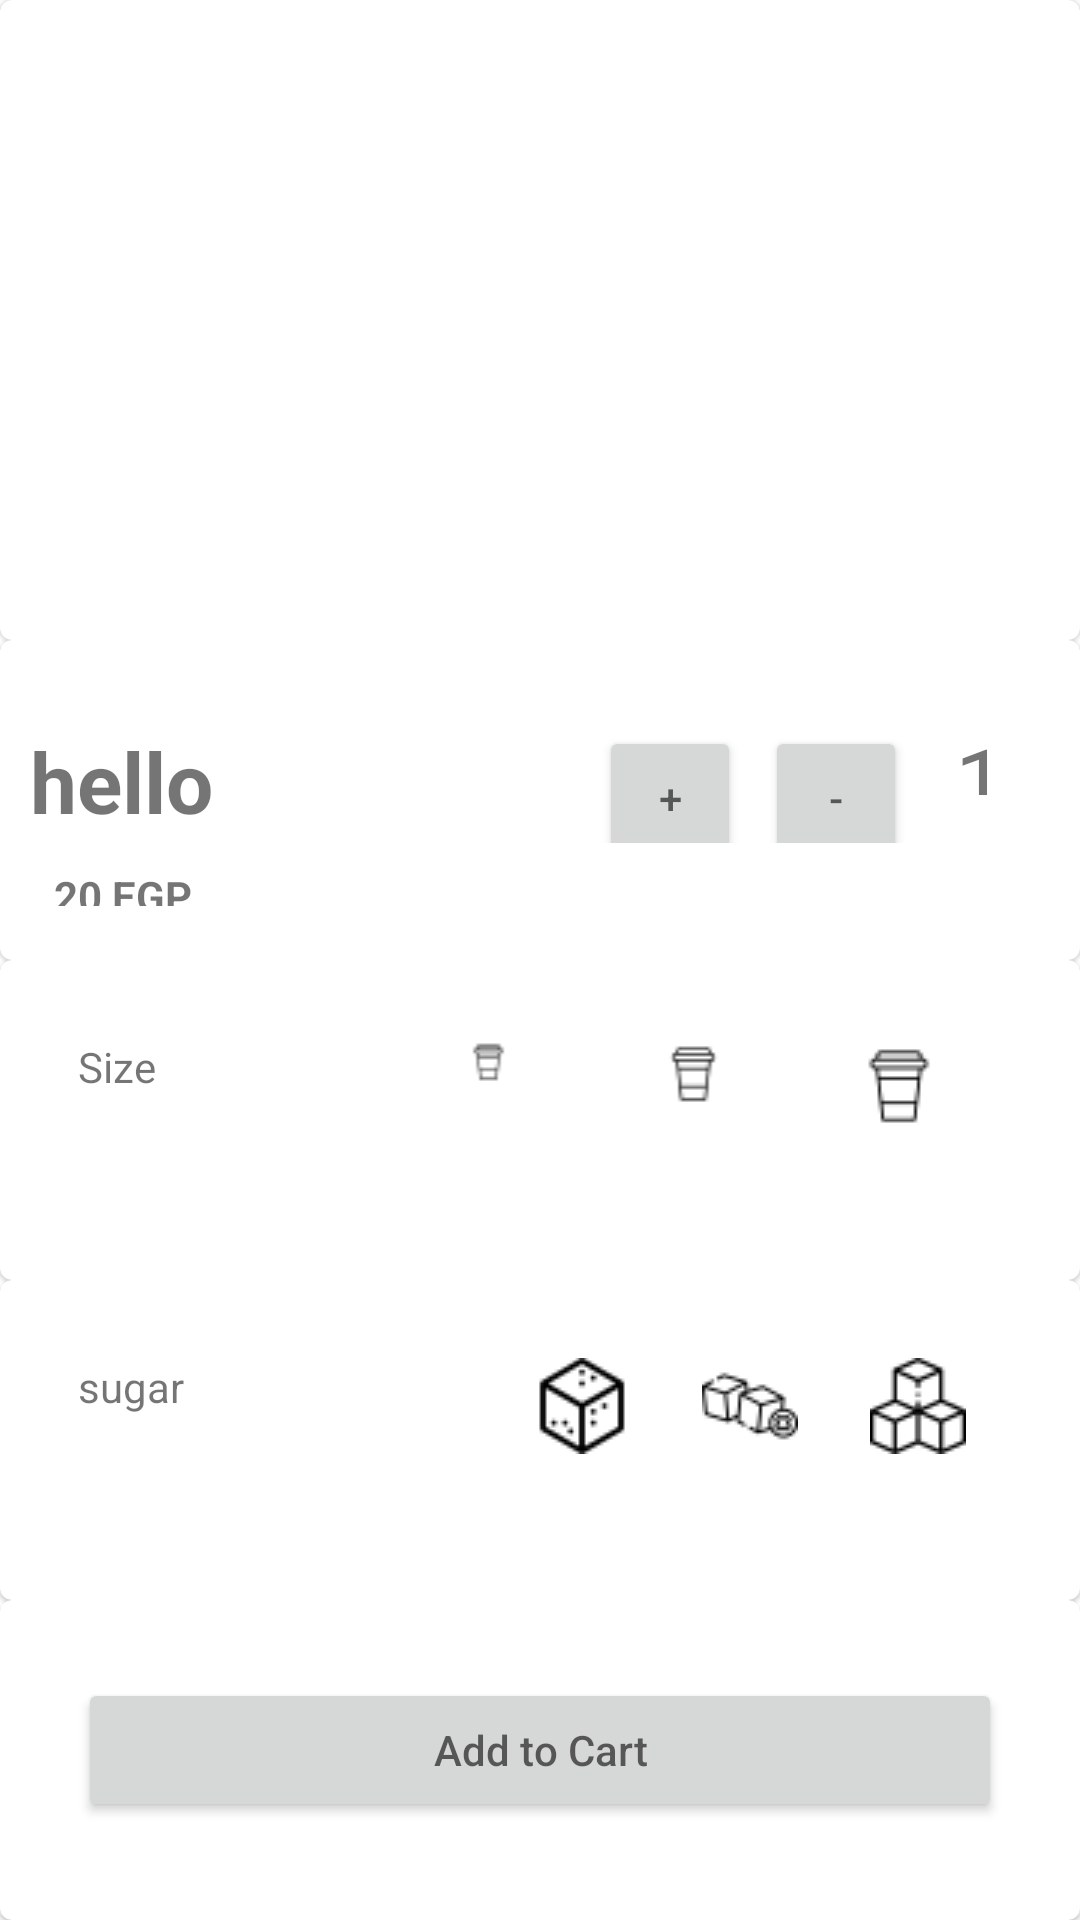

Where icons sit on this 1080 × 1920 app screen, as (x1=x1, y1=y1, x2=x2, y2=y2):
cup: (x1=473, y1=1043, x2=504, y2=1081), (x1=671, y1=1046, x2=716, y2=1102), (x1=868, y1=1049, x2=930, y2=1123)
no sugar: (x1=702, y1=1372, x2=798, y2=1440)
sugar: (x1=539, y1=1358, x2=625, y2=1454)
sugar cubes: (x1=870, y1=1358, x2=966, y2=1454)
